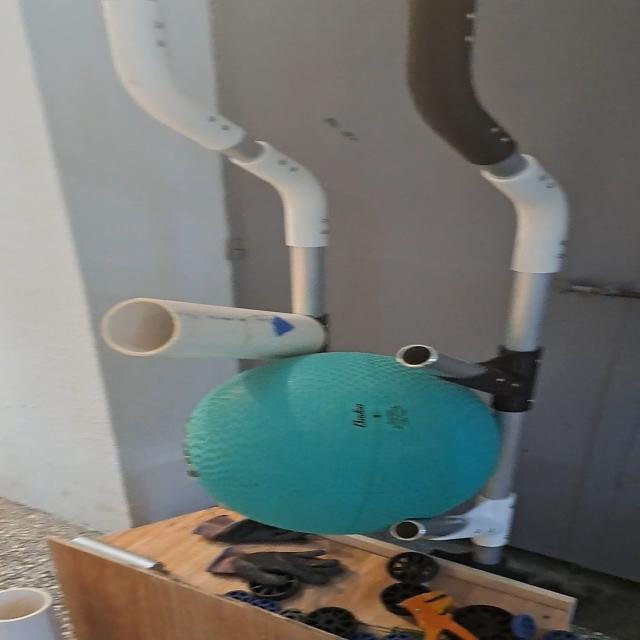ALGAE: (182, 346, 507, 535)
CORAL: (98, 296, 334, 364)
